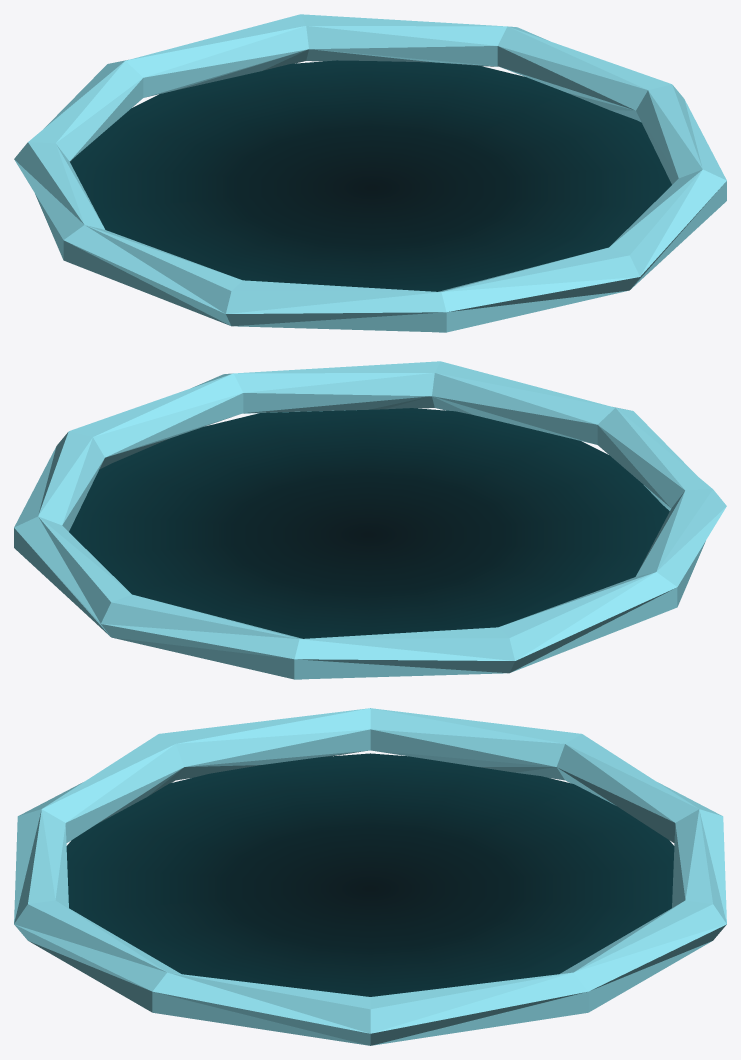
Rendered from Glass_Cave_Mouth.glb.
3 renders of one model, top to bottom at view 1: azimuth 30°, elevation 25°; view 2: azimuth 150°, elevation 25°; view 3: azimuth 270°, elevation 25°, orthographic. The views are drawn at different scales.
Parts seen in each view (by area): view 1: Glass_Cave_Mouth; view 2: Glass_Cave_Mouth; view 3: Glass_Cave_Mouth.
Boxes of the visible parts, box(x1,y1,x2,y2) form: Glass_Cave_Mouth: box(14, 14, 726, 332); Glass_Cave_Mouth: box(14, 361, 726, 679); Glass_Cave_Mouth: box(14, 708, 726, 1045).
Bounding box in the file's own units: 4.1 × 0.258 × 3.92.
